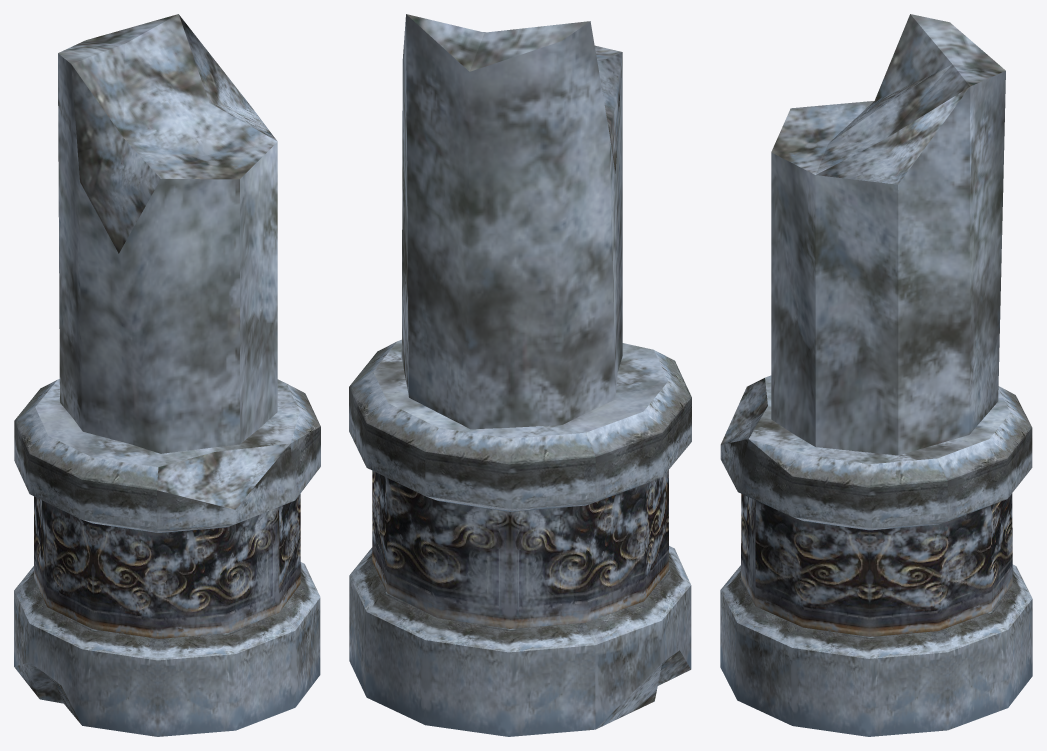
Rendered from StoneOther1.FBX.
3 views of the same model, side by side, from view 1: azimuth 30°, elevation 25°; view 2: azimuth 150°, elevation 25°; view 3: azimuth 270°, elevation 25° (orthographic). The views are drawn at different scales.
Visible parts, largest first — view 1: Object745; view 2: Object745; view 3: Object745.
Boxes of the visible parts, x1,y1,x2,y2 form: Object745: (14,14,320,736); Object745: (349,14,691,736); Object745: (720,14,1032,736).
Size of the model in its own units: 196 by 432 by 198.
